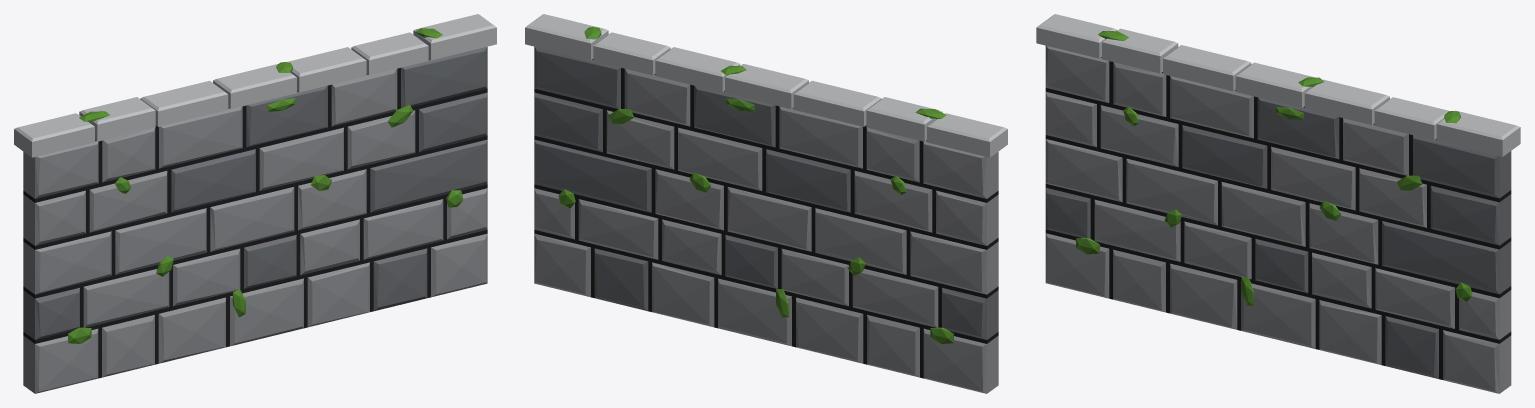
Rendered from stone-wall.glb.
The picture shows the model from 3 angles, left to right: view 1: azimuth 30°, elevation 25°; view 2: azimuth 150°, elevation 25°; view 3: azimuth 330°, elevation 25°; orthographic projection.
Visible parts, largest first — view 1: Stones, StonesDark, Cap, Gaps, Moss; view 2: Stones, StonesDark, Cap, Gaps, Moss; view 3: Stones, StonesDark, Cap, Gaps, Moss.
Part boxes in pixels (left/top/right/bottom): Stones: left=23, top=69, right=487, bottom=393; StonesDark: left=23, top=46, right=487, bottom=339; Cap: left=14, top=14, right=496, bottom=157; Gaps: left=23, top=59, right=487, bottom=378; Moss: left=68, top=28, right=463, bottom=343; Stones: left=534, top=69, right=998, bottom=393; StonesDark: left=534, top=46, right=998, bottom=339; Cap: left=525, top=14, right=1007, bottom=157; Gaps: left=534, top=59, right=998, bottom=378; Moss: left=558, top=27, right=953, bottom=343; Stones: left=1045, top=45, right=1511, bottom=393; StonesDark: left=1045, top=97, right=1511, bottom=378; Cap: left=1036, top=14, right=1520, bottom=156; Gaps: left=1045, top=57, right=1511, bottom=379; Moss: left=1076, top=31, right=1472, bottom=305.
Size of the model in its own units: 30 by 16.15 by 2.
